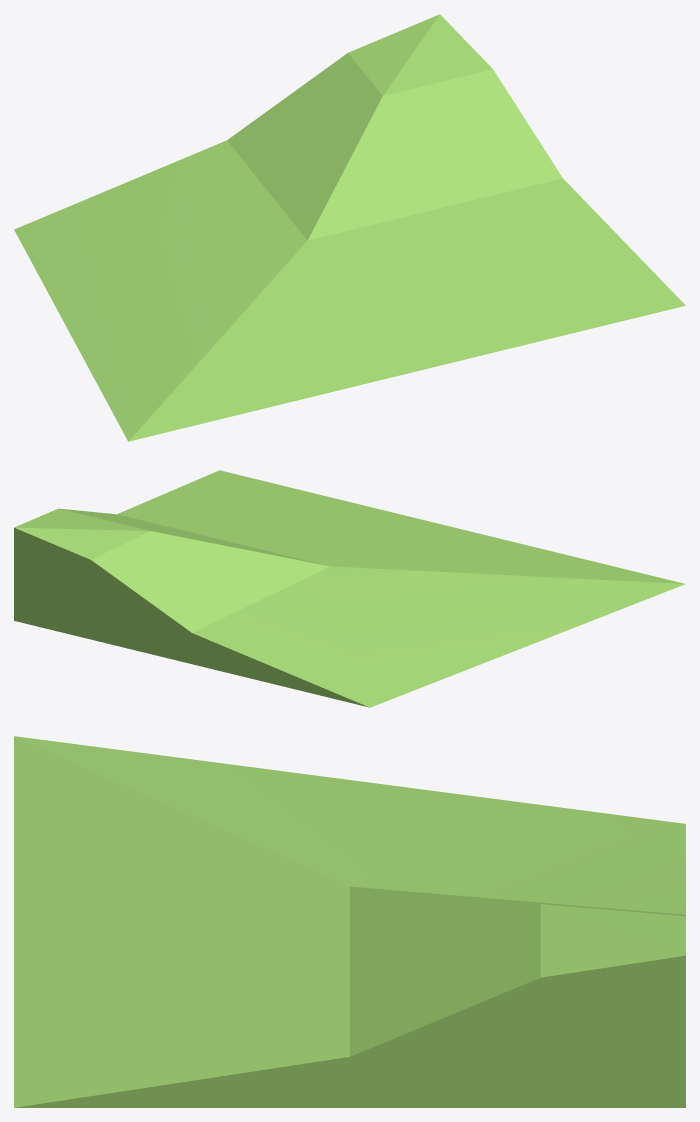
Rendered from Path_Terrain_Y_Curve_Inner_1x1.glb.
3 renders of one model, top to bottom at view 1: azimuth 30°, elevation 25°; view 2: azimuth 150°, elevation 25°; view 3: azimuth 270°, elevation 25°, orthographic. The views are drawn at different scales.
Visible parts, largest first — view 1: Path_Terrain_Y_Curve_Inner_1x1; view 2: Path_Terrain_Y_Curve_Inner_1x1; view 3: Path_Terrain_Y_Curve_Inner_1x1.
Part boxes in pixels (x1,y1,x2,y2): Path_Terrain_Y_Curve_Inner_1x1: (14,14,685,441); Path_Terrain_Y_Curve_Inner_1x1: (14,470,685,707); Path_Terrain_Y_Curve_Inner_1x1: (14,736,685,1107).
Bounding box in the file's own units: 131 × 25 × 100.
